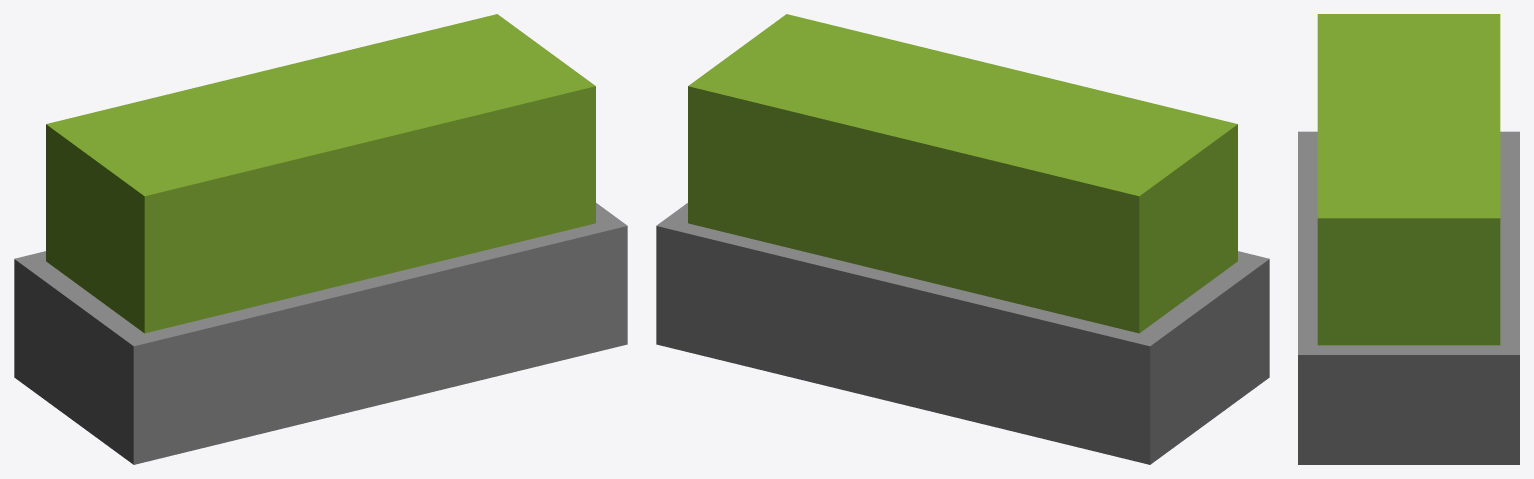
Rendered from SM_Planter_02.fbx.
3 views of the same model, side by side, from view 1: azimuth 30°, elevation 25°; view 2: azimuth 150°, elevation 25°; view 3: azimuth 270°, elevation 25° (orthographic). The views are drawn at different scales.
Visible parts, largest first — view 1: SM_Planter_02; view 2: SM_Planter_02; view 3: SM_Planter_02.
Part boxes in pixels (bbox=[...]): SM_Planter_02: bbox=[14, 14, 627, 464]; SM_Planter_02: bbox=[656, 14, 1269, 464]; SM_Planter_02: bbox=[1298, 14, 1519, 464].
Bounding box in the file's own units: 2.17 × 1.07 × 0.909.
